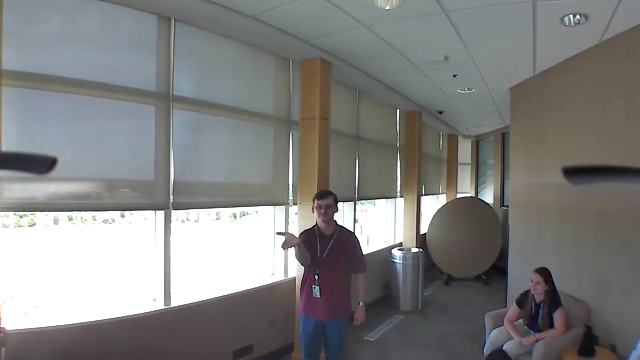land: (274, 230, 303, 252)
